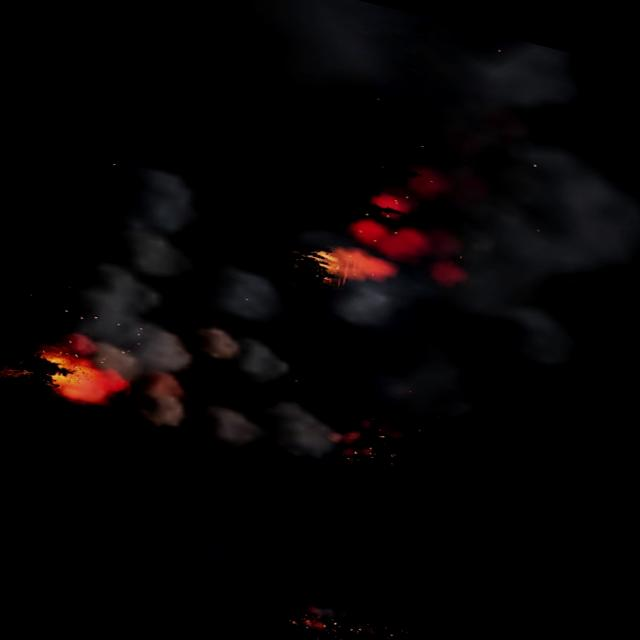fire: (26, 343, 129, 412), (306, 237, 394, 296), (331, 418, 382, 467), (291, 612, 327, 634)
smoke: (272, 26, 640, 507), (51, 162, 403, 478), (300, 590, 398, 640)
